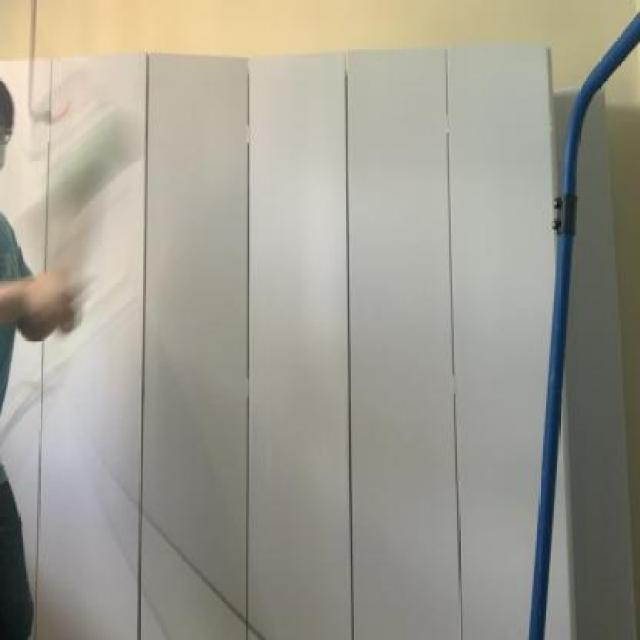baseball: (41, 93, 145, 210)
